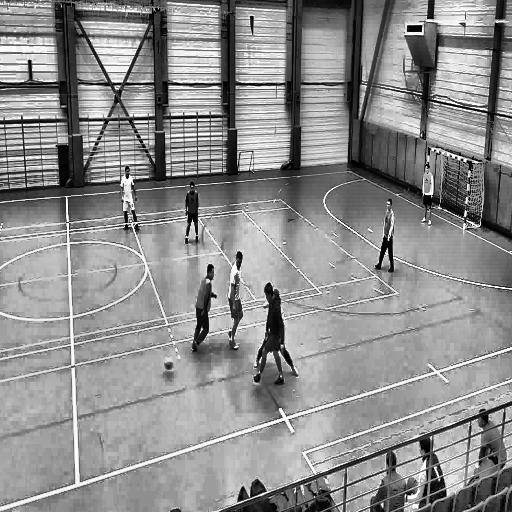ball: (163, 356, 173, 372)
player: (254, 289, 298, 377), (253, 282, 284, 388), (190, 265, 217, 354), (228, 251, 246, 350), (374, 200, 394, 274), (120, 165, 140, 231), (420, 162, 435, 227), (184, 182, 199, 244)
